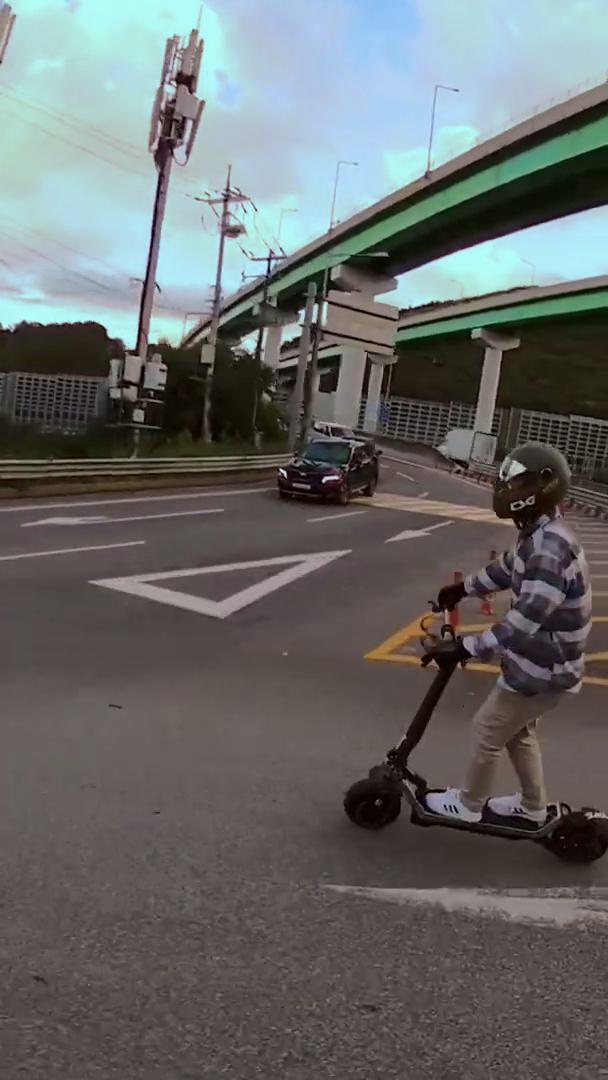helmet: (345, 439, 608, 861)
